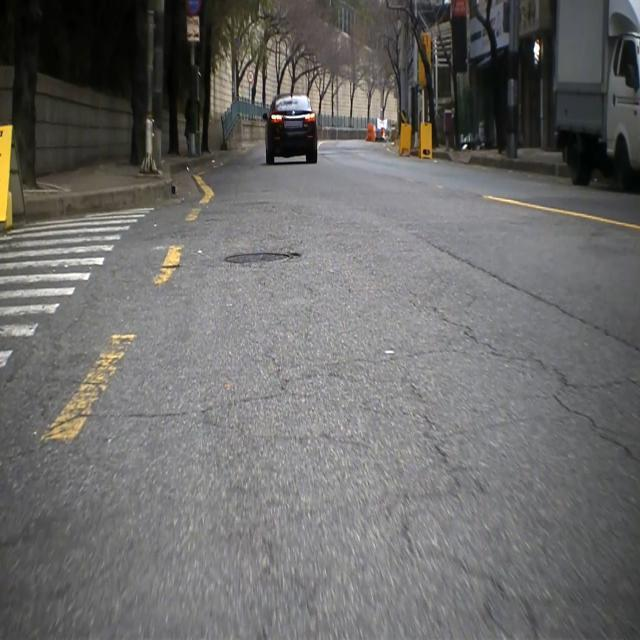pothole: (211, 239, 312, 288)
